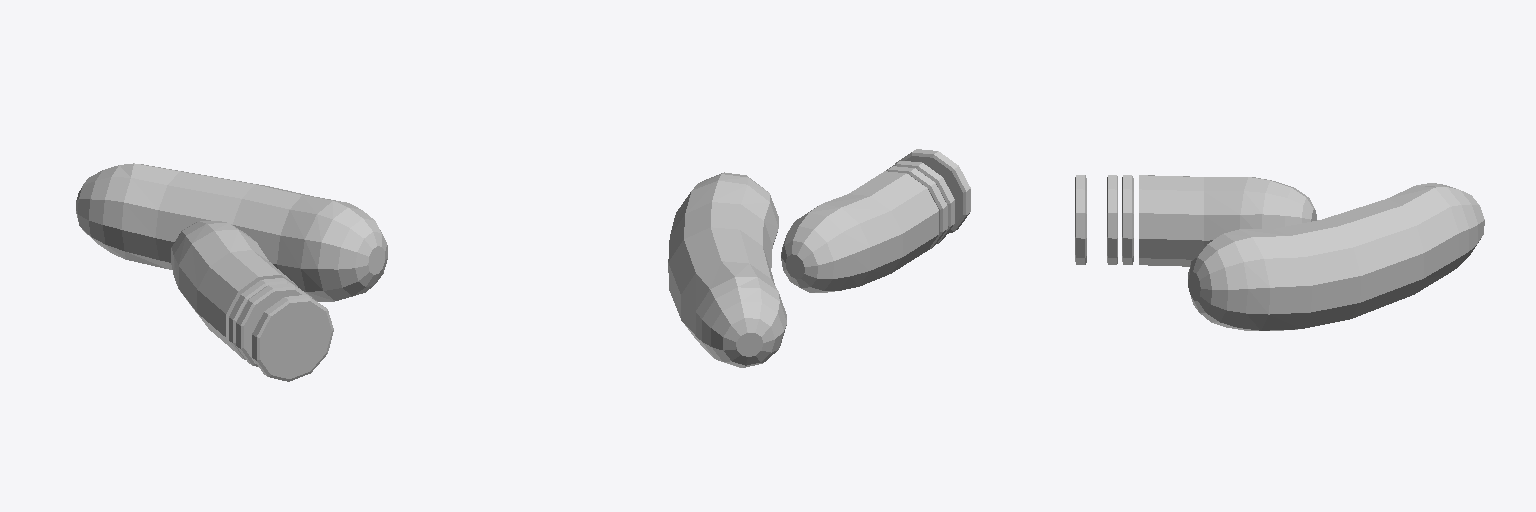
Rendered from cucumber(set).obj.
3 renders of one model, left to right at view 1: azimuth 30°, elevation 25°; view 2: azimuth 150°, elevation 25°; view 3: azimuth 270°, elevation 25°, orthographic.
Visible parts, largest first — view 1: pSphere6, pSphere2, pSphere3, pSphere4, pSphere5; view 2: pSphere6, pSphere2, pSphere3, pSphere5, pSphere4; view 3: pSphere6, pSphere2, pSphere3, pSphere5, pSphere4.
Part boxes in pixels (bbox=[...]): pSphere6: bbox=[76, 163, 387, 301]; pSphere2: bbox=[171, 221, 297, 354]; pSphere3: bbox=[252, 295, 333, 381]; pSphere4: bbox=[236, 283, 311, 366]; pSphere5: bbox=[229, 278, 303, 359]; pSphere6: bbox=[668, 172, 786, 367]; pSphere2: bbox=[781, 171, 938, 292]; pSphere3: bbox=[895, 149, 970, 233]; pSphere5: bbox=[886, 166, 947, 249]; pSphere4: bbox=[887, 161, 954, 243]; pSphere6: bbox=[1188, 183, 1484, 330]; pSphere2: bbox=[1139, 175, 1316, 266]; pSphere3: bbox=[1075, 175, 1086, 264]; pSphere5: bbox=[1122, 175, 1133, 264]; pSphere4: bbox=[1107, 175, 1117, 264].
Size of the model in its own units: 6.11 by 2.94 by 10.71.